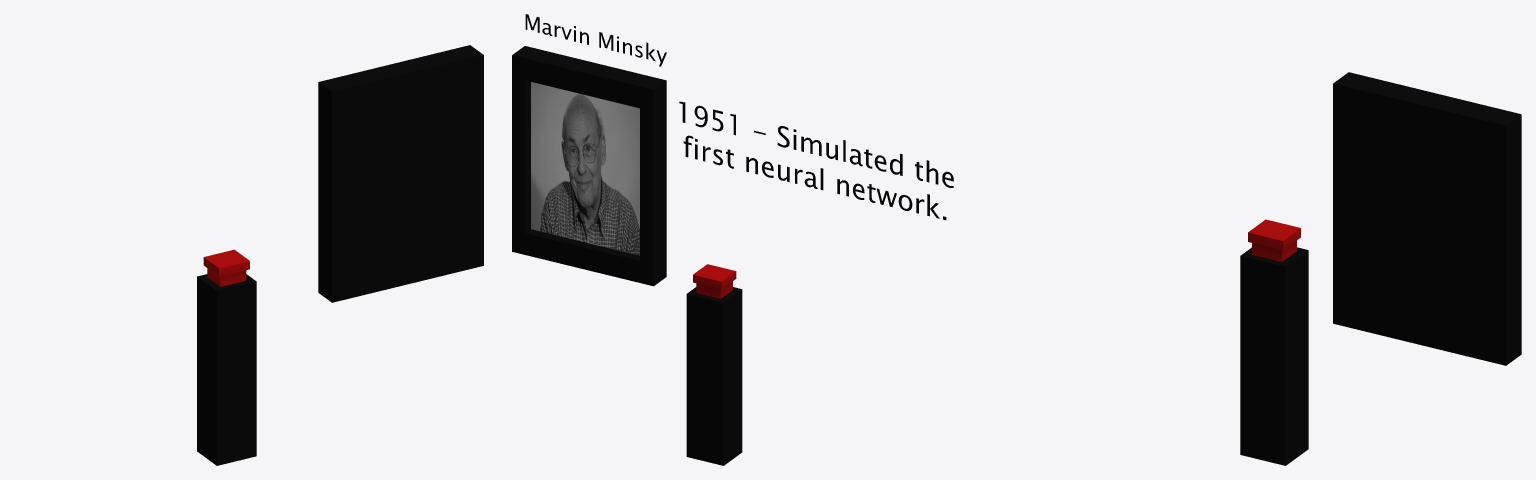
Rendered from 3_1951_two.gltf.
3 views of the same model, side by side, from view 1: azimuth 30°, elevation 25°; view 2: azimuth 150°, elevation 25°; view 3: azimuth 330°, elevation 25° (orthographic). The views are drawn at different scales.
Visible parts, largest first — view 1: typeMesh50, polySurface4274; view 2: typeMesh50, polySurface4274; view 3: typeMesh50, polySurface4274.
Boxes of the visible parts, bbox=[...] form: typeMesh50: bbox=[318, 45, 483, 302]; polySurface4274: bbox=[197, 249, 256, 465]; typeMesh50: bbox=[512, 14, 953, 286]; polySurface4274: bbox=[686, 264, 742, 465]; typeMesh50: bbox=[1333, 72, 1521, 365]; polySurface4274: bbox=[1240, 219, 1308, 465].
Size of what is drawn, in the model's own units: 4.82 by 3.99 by 0.6642.
4 materials, 1 textured.
